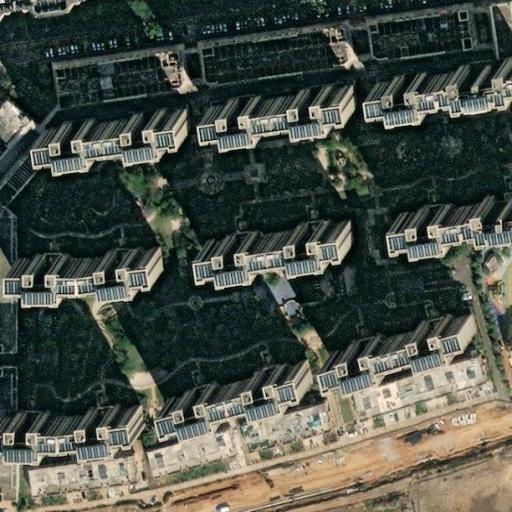building: (26, 348, 512, 501), (334, 317, 479, 377), (166, 363, 311, 422), (204, 31, 352, 85), (204, 80, 351, 126), (219, 219, 365, 265), (46, 109, 193, 154), (371, 59, 512, 105), (59, 54, 186, 105), (16, 250, 160, 292), (0, 412, 143, 448), (373, 13, 477, 62), (397, 197, 512, 240), (425, 456, 491, 481), (0, 364, 21, 414), (493, 5, 512, 57), (275, 301, 289, 316)
